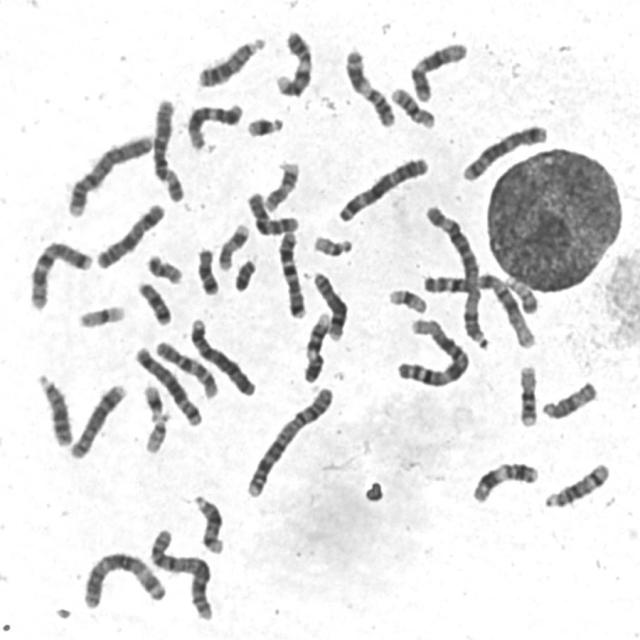A1: (417, 267, 539, 350), (391, 312, 472, 388)
A2: (241, 380, 336, 500), (145, 524, 216, 622)
A3: (332, 150, 432, 224), (77, 545, 170, 611)
B4: (62, 128, 153, 219), (185, 312, 258, 398)
B5: (130, 341, 204, 428), (457, 118, 550, 184)
C10: (151, 334, 220, 400), (242, 186, 302, 237)
C11: (340, 42, 398, 129), (467, 456, 541, 506)
C12: (406, 36, 470, 103), (183, 97, 245, 151)
C6: (416, 201, 489, 301), (147, 92, 187, 204)
C7: (24, 234, 94, 312), (274, 226, 308, 320)
C8: (65, 378, 128, 461), (308, 266, 350, 342)
C9: (270, 24, 315, 99), (298, 307, 334, 384)
D13: (192, 31, 267, 89), (31, 367, 74, 448)
D14: (540, 457, 612, 510), (187, 488, 226, 556)
D15: (537, 376, 599, 422), (453, 288, 494, 350)
E16: (386, 81, 437, 130), (513, 359, 540, 428)
E17: (260, 157, 302, 213), (213, 219, 251, 272)
E18: (132, 276, 174, 327), (192, 243, 221, 297)
F19: (72, 299, 128, 330), (384, 283, 429, 316)
F20: (504, 272, 545, 321), (142, 248, 185, 286)
G21: (242, 110, 285, 139), (138, 379, 166, 421)
G22: (140, 406, 173, 455), (308, 230, 355, 259)
X: (91, 198, 167, 271)
Y: (230, 254, 258, 294)
